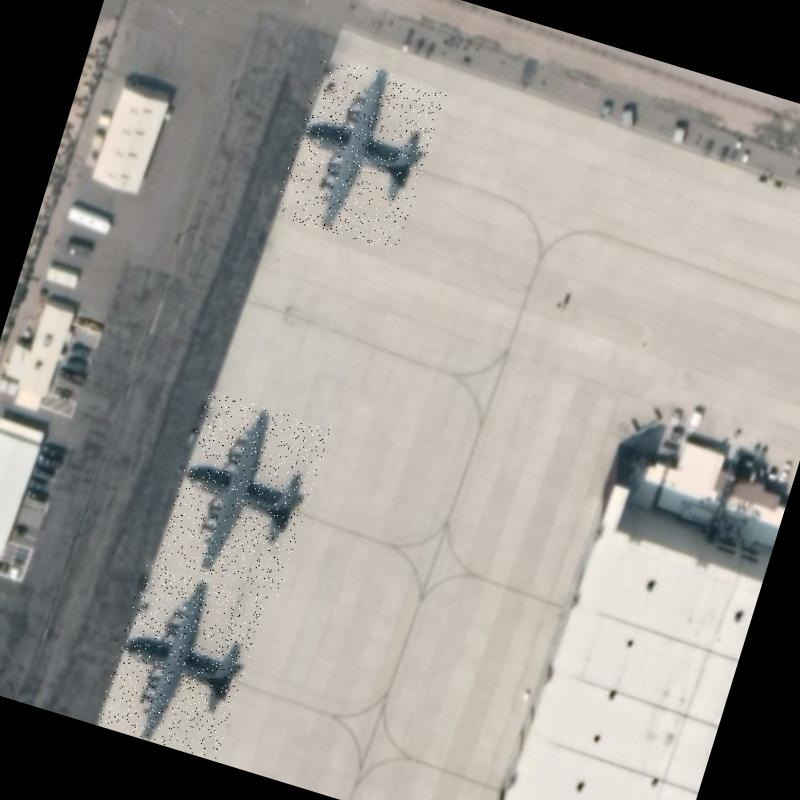A2: (157, 389, 331, 596), (273, 54, 447, 254), (96, 560, 268, 762)
